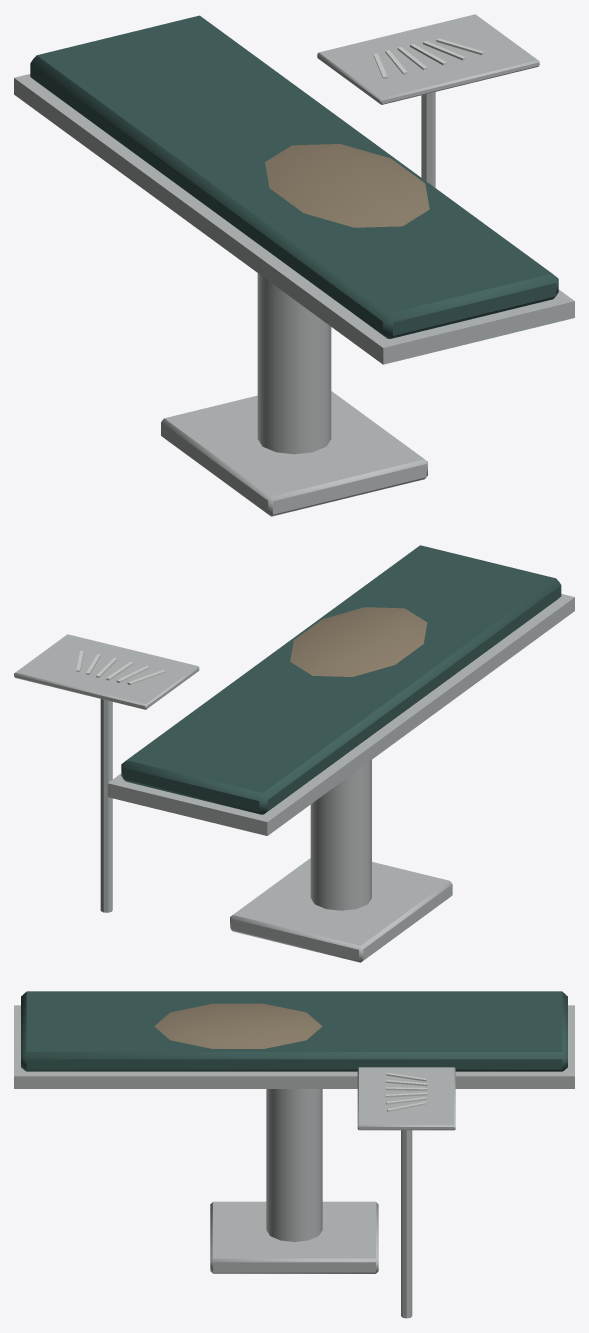
Rendered from surgery_table.glb.
3 views of the same model, one above another, from view 1: azimuth 30°, elevation 25°; view 2: azimuth 150°, elevation 25°; view 3: azimuth 270°, elevation 25° (orthographic). The views are drawn at different scales.
Visible parts, largest first — view 1: SurgeryTable; view 2: SurgeryTable; view 3: SurgeryTable.
Part boxes in pixels (box(x1,y1,x2,y2)): SurgeryTable: box(14, 14, 574, 516); SurgeryTable: box(14, 545, 574, 962); SurgeryTable: box(14, 991, 574, 1318).
Bounding box in the file's own units: 1.2 × 0.905 × 2.
